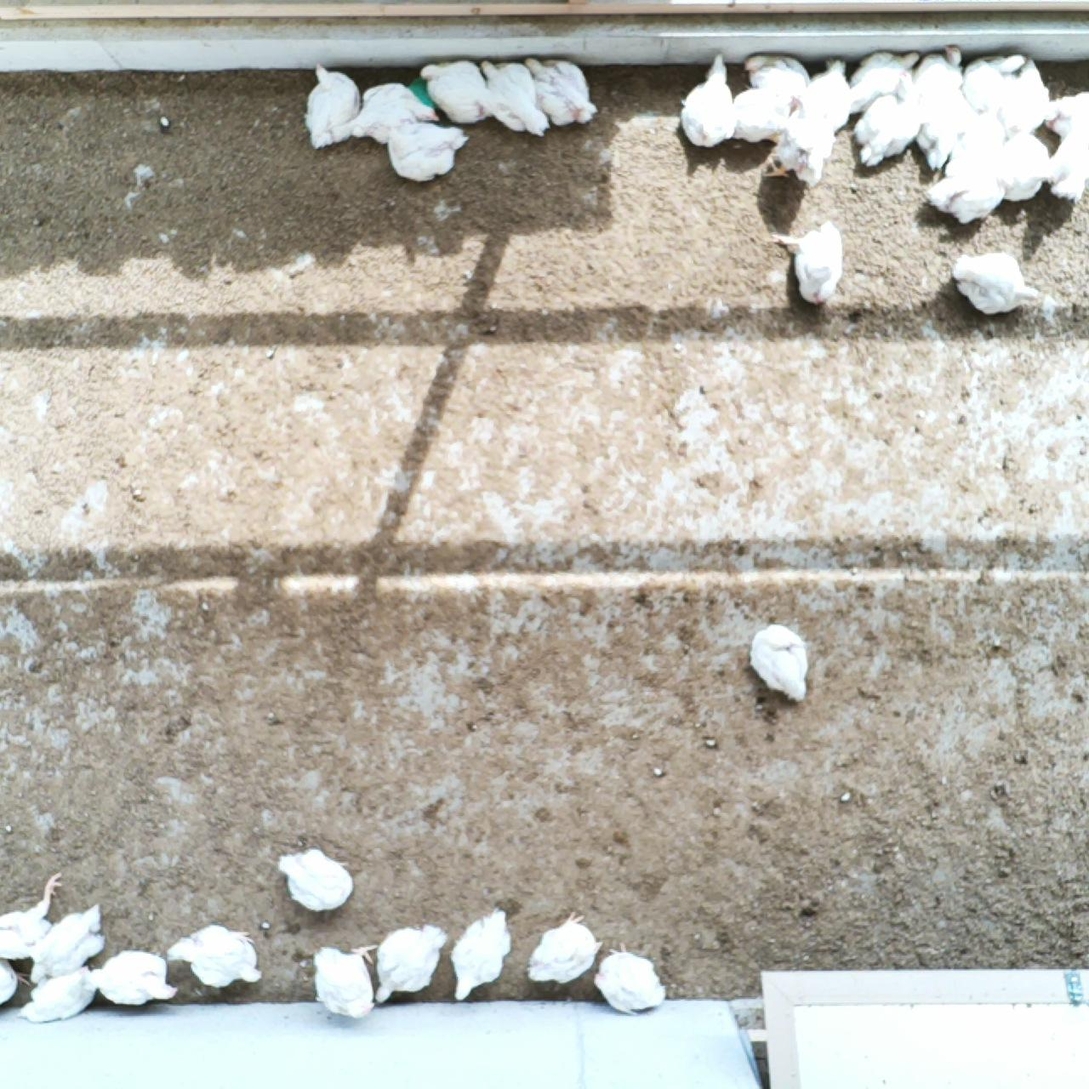chicken: (763, 91, 837, 188), (947, 248, 1048, 316), (852, 68, 925, 162), (769, 221, 847, 305), (171, 922, 263, 991), (375, 920, 449, 1003), (676, 51, 738, 150), (26, 903, 105, 980), (519, 52, 598, 128), (527, 910, 601, 991), (476, 56, 548, 139), (588, 940, 667, 1015), (449, 909, 514, 1000), (309, 941, 378, 1026), (922, 161, 1006, 230), (88, 947, 176, 1012), (379, 119, 469, 182), (748, 621, 814, 706), (843, 47, 924, 116), (0, 870, 60, 962), (276, 846, 356, 913), (302, 61, 362, 150), (352, 83, 439, 144), (418, 56, 492, 126), (18, 966, 106, 1024), (726, 80, 801, 148), (959, 53, 1028, 122), (988, 131, 1055, 202), (951, 111, 1013, 183), (740, 50, 814, 105), (915, 95, 968, 171), (1042, 120, 1089, 205), (803, 59, 854, 137), (918, 39, 970, 112), (1004, 56, 1051, 134), (1044, 84, 1089, 148), (0, 952, 33, 1001)
